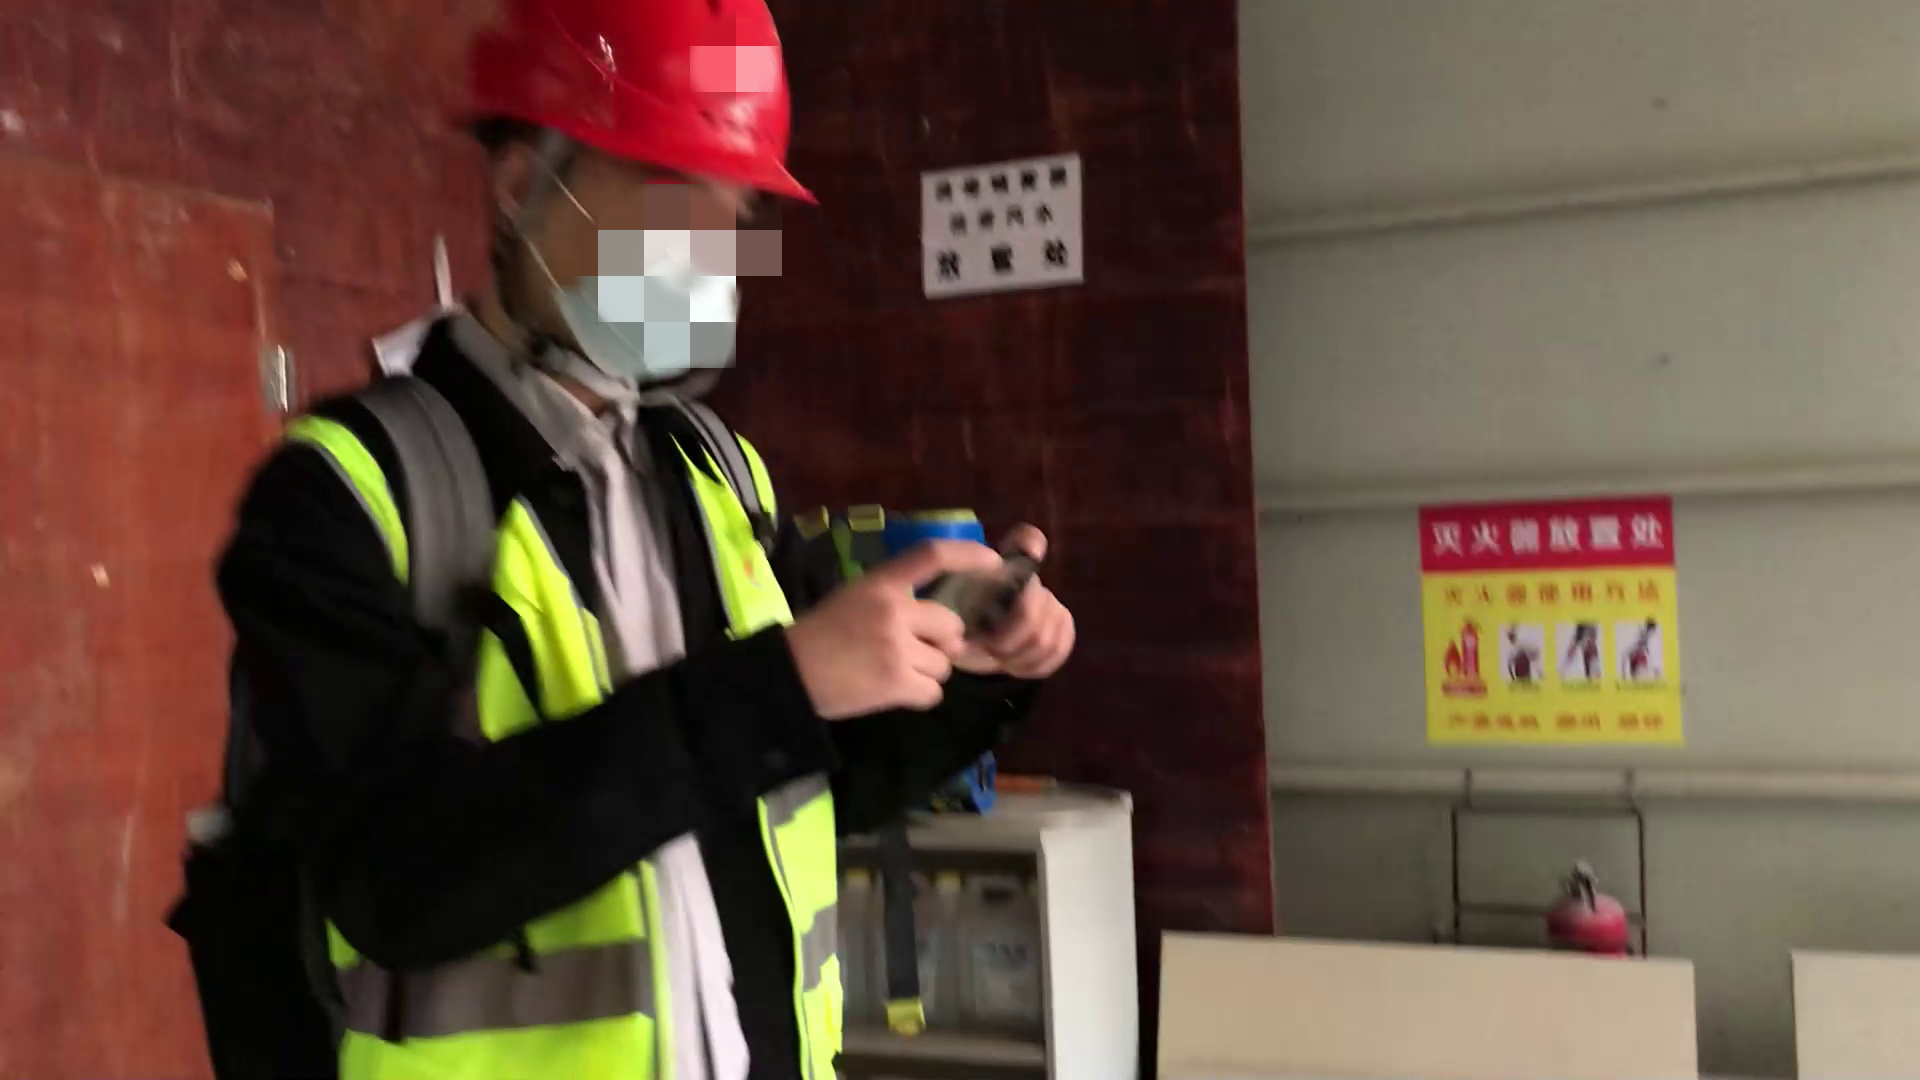helmet: (443, 1, 826, 216)
person: (167, 1, 1082, 1080)
slogan: (1419, 494, 1685, 746), (926, 149, 1085, 296)
vest: (280, 383, 846, 1079)
